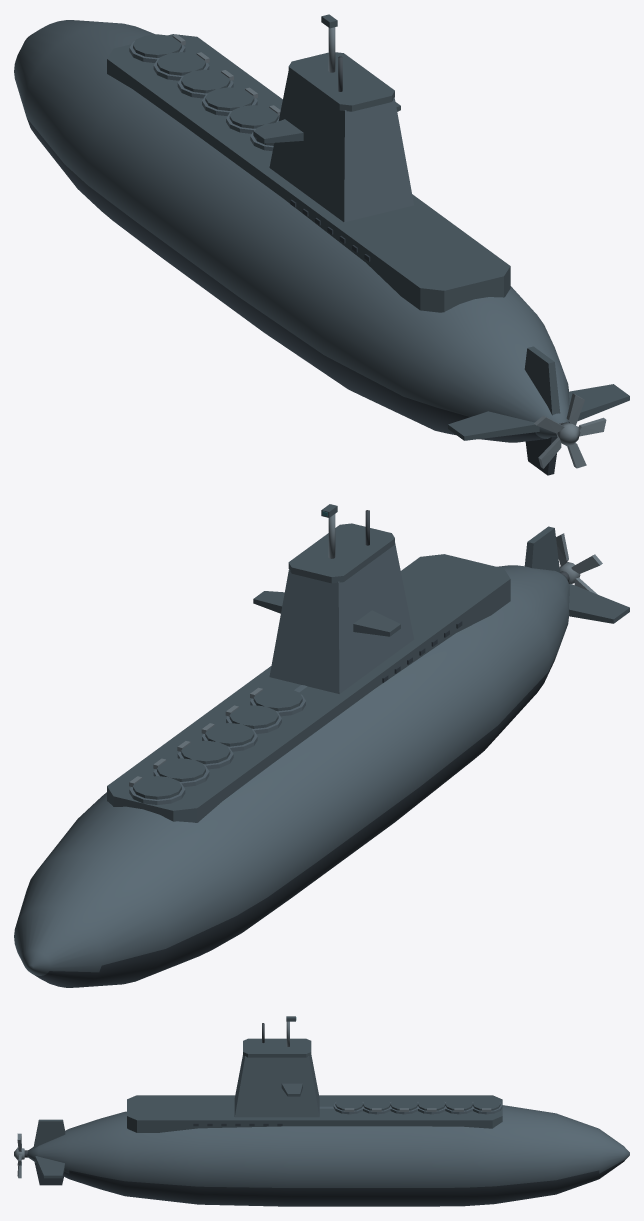
The model's file is EnemyCruiseSubmarine.fbx.
3 renders of one model, top to bottom at view 1: azimuth 30°, elevation 25°; view 2: azimuth 150°, elevation 25°; view 3: azimuth 270°, elevation 25°, orthographic. The views are drawn at different scales.
Visible parts, largest first — view 1: EnemyCruiseSubmarine_Visual, Propeller_Visual, MissileCap04, MissileCap02, MissileCap03, MissileCap05, MissileCap06; view 2: EnemyCruiseSubmarine_Visual, Propeller_Visual, MissileCap06, MissileCap02, MissileCap04, MissileCap01, MissileCap03, MissileCap05; view 3: EnemyCruiseSubmarine_Visual, MissileCap01, MissileCap03, MissileCap02, MissileCap04, MissileCap05, MissileCap06.
Boxes of the visible parts, x1,y1,x2,y2 form: EnemyCruiseSubmarine_Visual: (14, 20, 629, 475); Propeller_Visual: (534, 393, 606, 468); MissileCap04: (181, 69, 230, 93); MissileCap02: (229, 105, 278, 128); MissileCap03: (205, 87, 254, 110); MissileCap05: (157, 52, 205, 75); MissileCap06: (133, 34, 181, 57); EnemyCruiseSubmarine_Visual: (14, 510, 629, 987); Propeller_Visual: (556, 533, 602, 594); MissileCap06: (133, 776, 181, 799); MissileCap02: (229, 705, 278, 728); MissileCap04: (181, 740, 230, 764); MissileCap01: (253, 687, 302, 711); MissileCap03: (205, 723, 254, 746); MissileCap05: (157, 758, 205, 781); EnemyCruiseSubmarine_Visual: (24, 1023, 629, 1206); MissileCap01: (335, 1098, 363, 1110); MissileCap03: (390, 1098, 417, 1110); MissileCap02: (363, 1098, 390, 1110); MissileCap04: (418, 1098, 445, 1110); MissileCap05: (445, 1098, 472, 1110); MissileCap06: (473, 1098, 500, 1110).
Size of the model in its own units: 216 by 361 by 1100.
